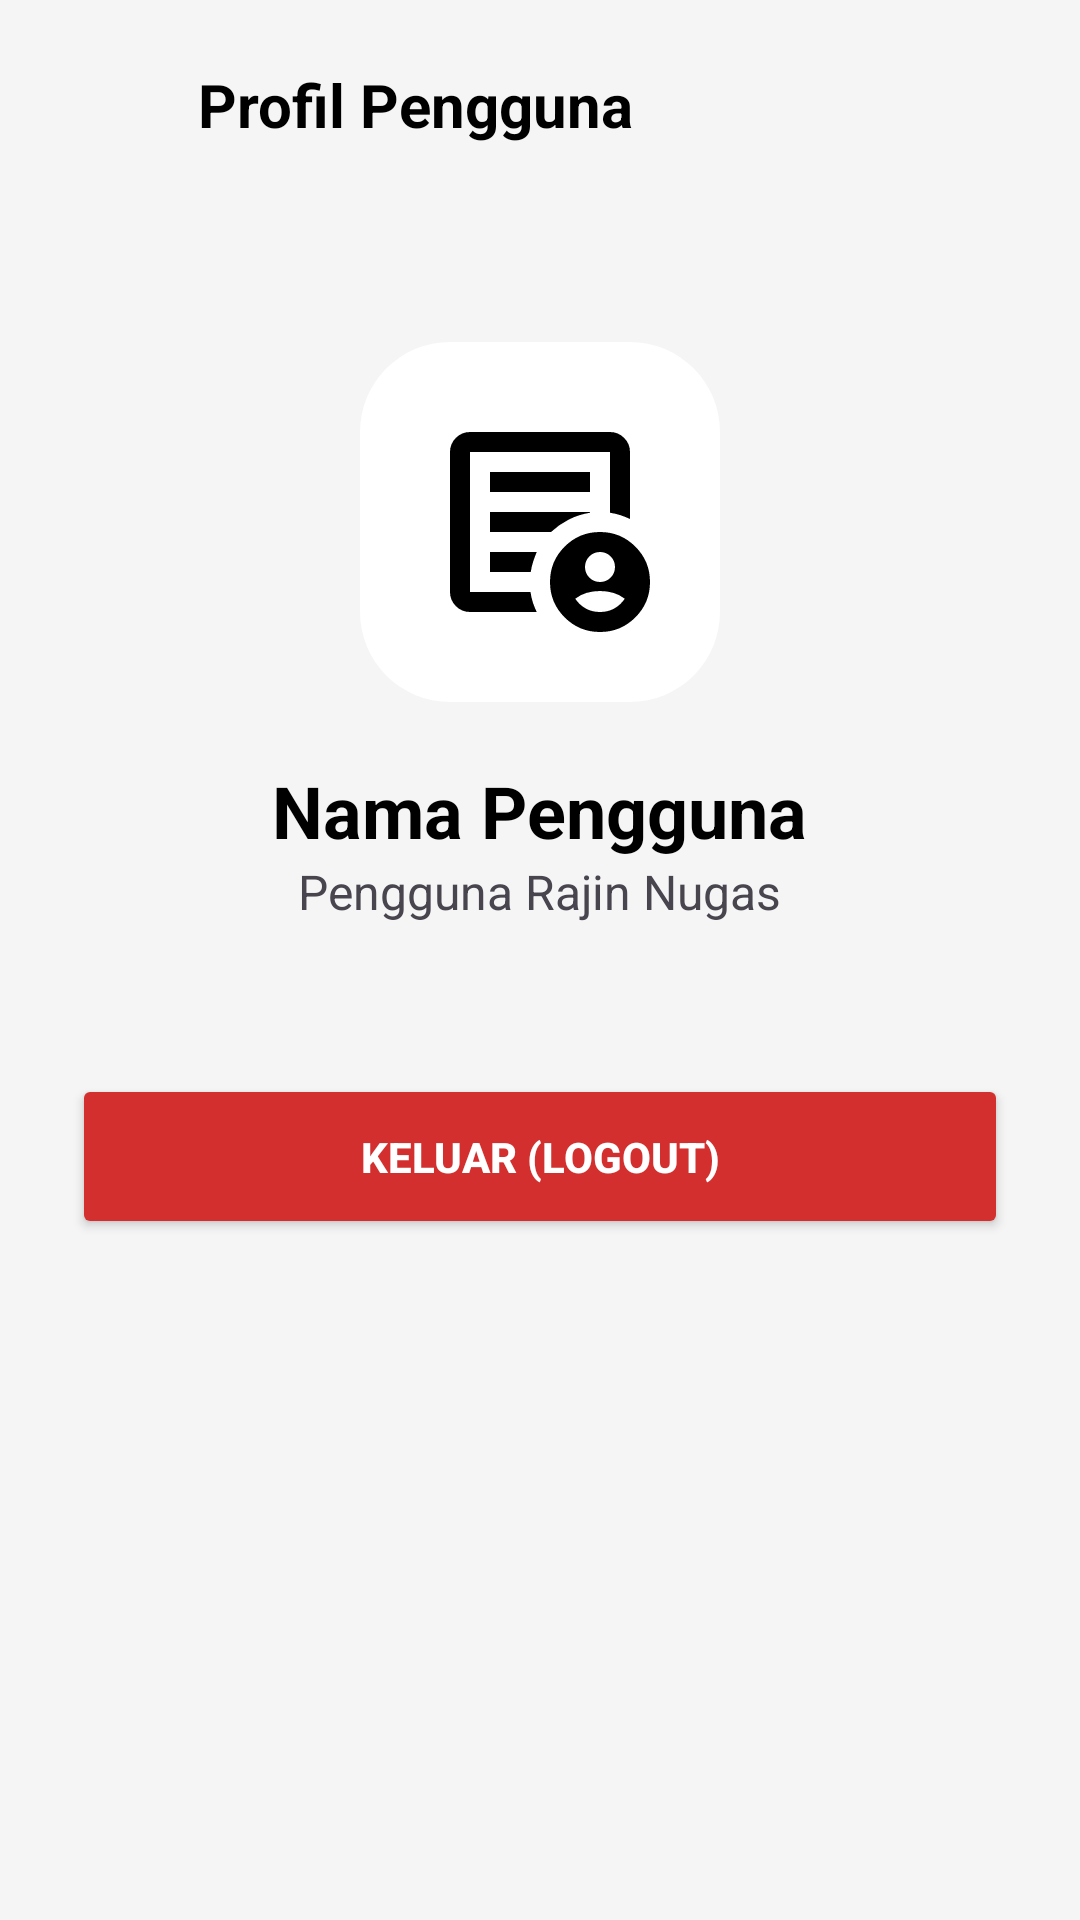

Where to tap for icons on this 1080×1920 app screen, as (x=x, y=y):
profile: (x=550, y=532)
